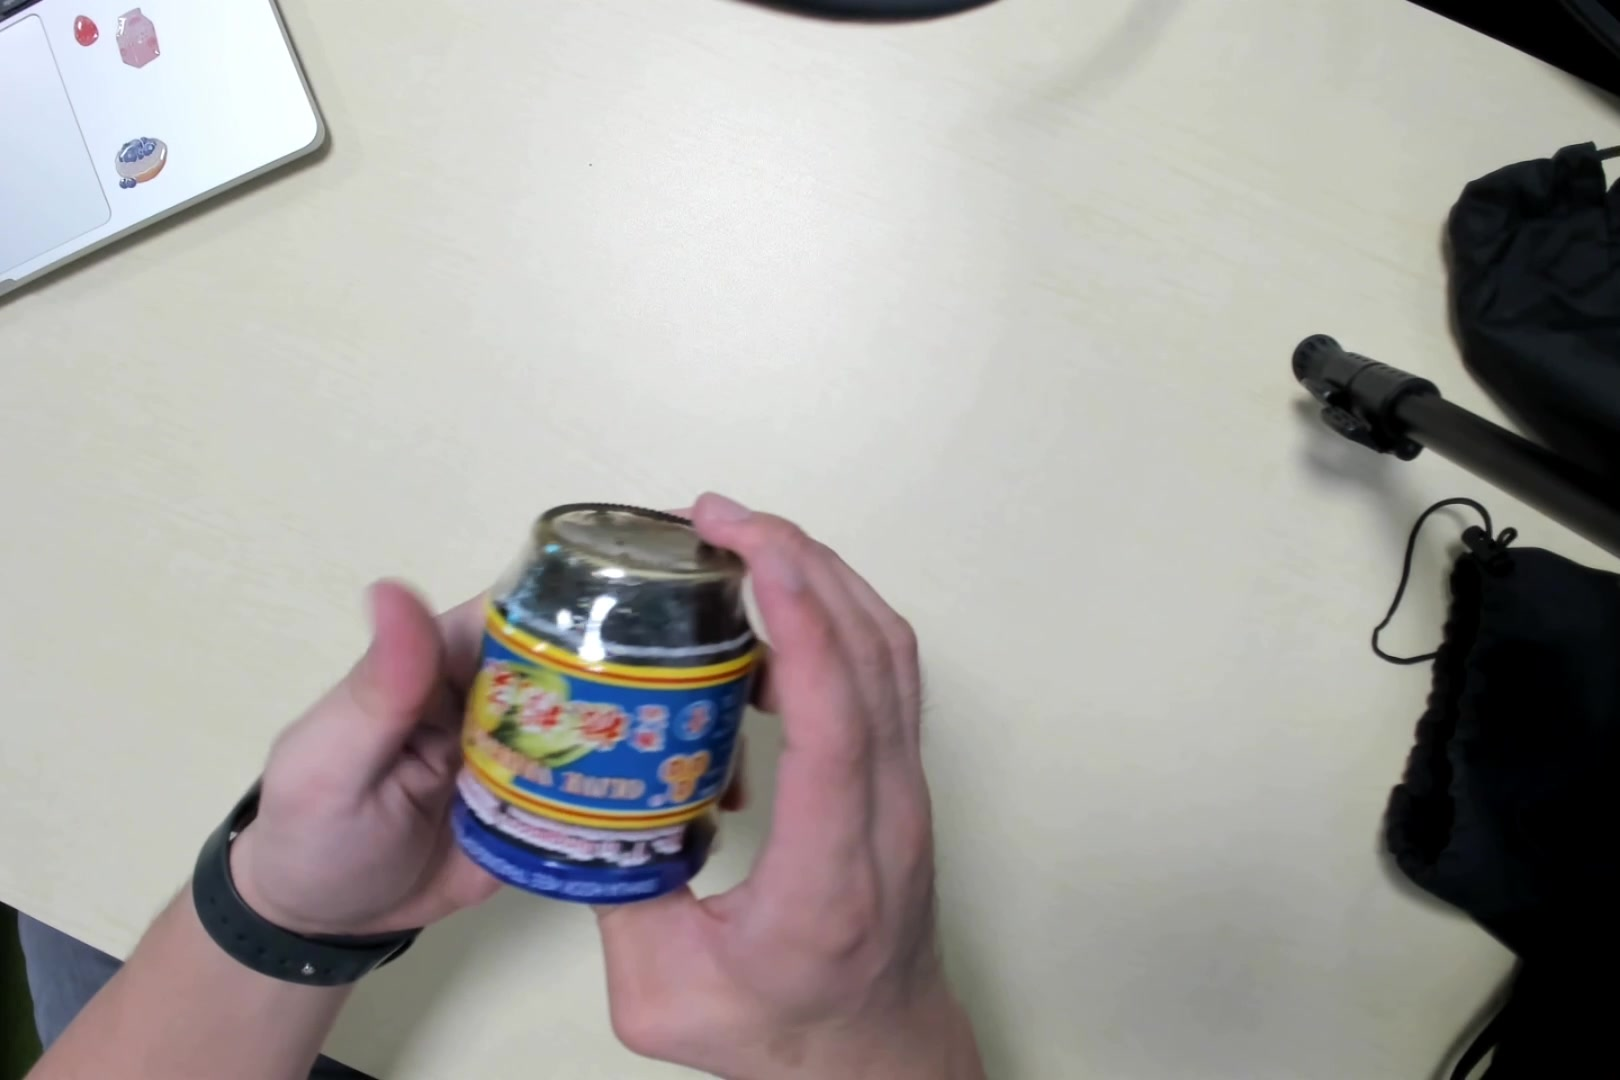CannedPickles_100-199g_NonHalal_NonHealthy: (463, 500, 749, 904)
